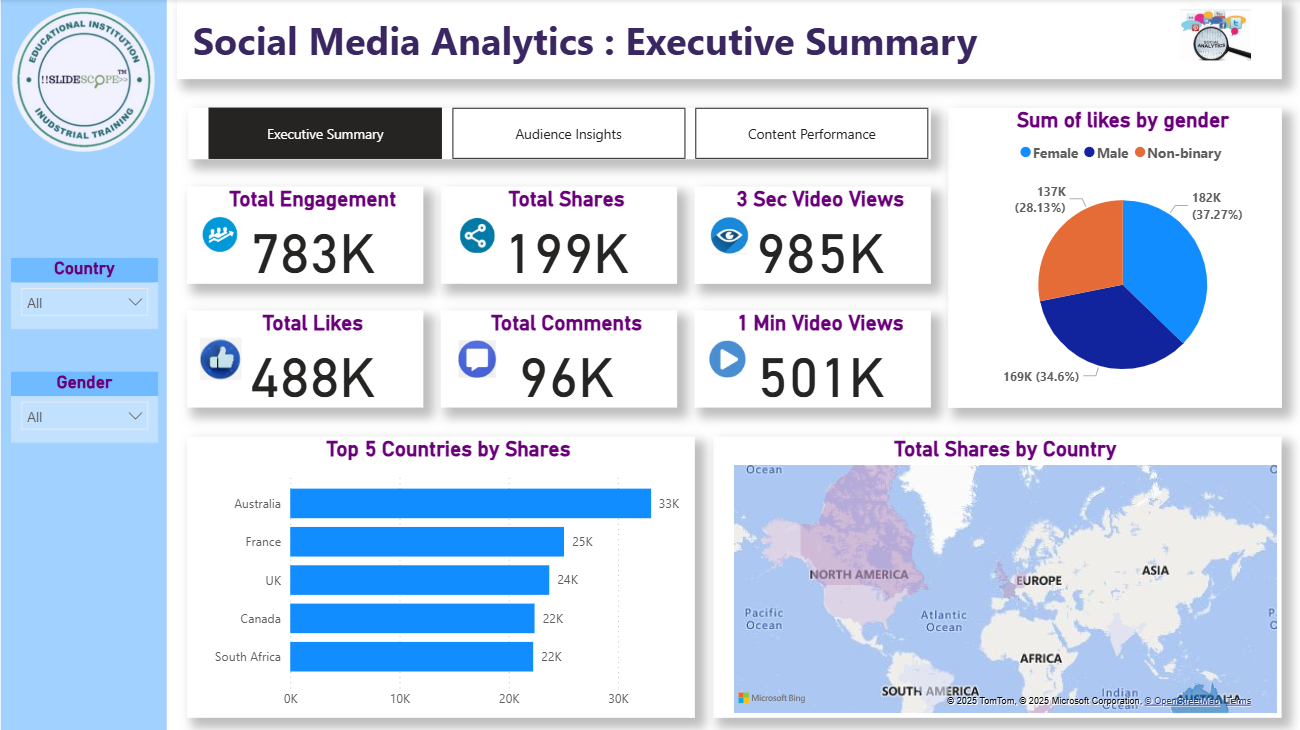

The dashboard page shown, as its layout file describes it:
{"tool":"powerbi","page":{"name":"Page 1","canvas":[1280,720],"ordinal":0},"visuals":[{"type":"shape","box":[8.6,0,162.6,720.2],"z":0},{"type":"textbox","box":[181,0,1099.3,64.8],"z":1000},{"type":"image","box":[1139.7,4.9,113.7,59.9],"z":2000},{"type":"image","box":[8.6,0,162.6,156.5],"z":3000},{"type":"card","title":"Total Likes","fields":{"Values":["Sum(social_media_analysis.likes)"]},"box":[181,92.9,205.4,89.3],"z":4000},{"type":"image","box":[181,108.8,59.9,52.6],"z":5000},{"type":"card","title":"Total Shares","fields":{"Values":["Sum(social_media_analysis.shares)"]},"box":[399.9,92.9,205.4,89.3],"z":6000},{"type":"image","box":[399.9,106.4,48.9,59.9],"z":7000},{"type":"card","title":"Total Comments","fields":{"Values":["Sum(social_media_analysis.comments)"]},"box":[620,92.9,205.4,89.3],"z":8000},{"type":"image","box":[620,113.7,57.5,50.1],"z":9000},{"type":"card","title":"1 Min Video Views","fields":{"Values":["Sum(social_media_analysis.1-minute-video-views)"]},"box":[1066.3,94.2,205.4,89.3],"z":10000},{"type":"card","title":"3 Sec Video Views","fields":{"Values":["Sum(social_media_analysis.3-second-video-views)"]},"box":[845,92.9,205.4,89.3],"z":11000},{"type":"image","box":[845,113.7,53.8,51.4],"z":12000},{"type":"image","box":[1066.3,113.7,51.4,52.6],"z":13000},{"type":"clusteredColumnChart","title":"Sum of Likes, Shares and Comments by Hobby","fields":{"Category":["social_media_analysis.hobby"],"Y":["Sum(social_media_analysis.comments)","Sum(social_media_analysis.likes)","Sum(social_media_analysis.shares)"]},"box":[181,200.5,424.3,225],"z":14000},{"type":"clusteredColumnChart","title":"Video Views by Profession","fields":{"Category":["social_media_analysis.profession"],"Y":["Sum(social_media_analysis.likes)","Sum(social_media_analysis.1-minute-video-views)","Sum(social_media_analysis.3-second-video-views)"]},"box":[620,201.8,401.1,223.8],"z":15000},{"type":"donutChart","fields":{"Category":["social_media_analysis.gender"],"Y":["Sum(social_media_analysis.likes)"]},"box":[1037,201.8,234.8,223.8],"z":16000},{"type":"clusteredColumnChart","title":"Distribution of Age of User","fields":{"Y":["CountNonNull(social_media_analysis.user_id)"],"Category":["social_media_analysis.age (bins)"],"Series":["social_media_analysis.gender"]},"box":[181,459.8,424.3,232.3],"z":17000},{"type":"slicer","title":"Gender","fields":{"Values":["social_media_analysis.gender"]},"box":[18.3,183.4,144.3,117.4],"z":18000},{"type":"slicer","title":"Hobby","fields":{"Values":["social_media_analysis.hobby"]},"box":[18.3,335.1,144.3,69.7],"z":19000},{"type":"slicer","title":"Profession","fields":{"Values":["social_media_analysis.profession"]},"box":[18.3,440.2,144.3,69.7],"z":20000},{"type":"filledMap","title":"Total Shares by Country","fields":{"Category":["social_media_analysis.country"]},"box":[620,459.8,651.8,232.3],"z":21000},{"type":"slicer","title":"Country","fields":{"Values":["social_media_analysis.country"]},"box":[18.3,541.7,144.3,69.7],"z":22000}]}

Visuals, with their boxes in screenshot pixels (x1, y1, x2, y2), scaled from the page's 1280x720 canvas onto the 1300x730 screenshot:
shape: (left=9, top=0, right=174, bottom=729)
textbox: (left=184, top=0, right=1299, bottom=66)
image: (left=1158, top=5, right=1273, bottom=66)
image: (left=9, top=0, right=174, bottom=159)
"Total Likes" card: (left=184, top=94, right=392, bottom=185)
image: (left=184, top=110, right=245, bottom=164)
"Total Shares" card: (left=406, top=94, right=615, bottom=185)
image: (left=406, top=108, right=456, bottom=169)
"Total Comments" card: (left=630, top=94, right=838, bottom=185)
image: (left=630, top=115, right=688, bottom=166)
"1 Min Video Views" card: (left=1083, top=96, right=1292, bottom=186)
"3 Sec Video Views" card: (left=858, top=94, right=1067, bottom=185)
image: (left=858, top=115, right=913, bottom=167)
image: (left=1083, top=115, right=1135, bottom=169)
"Sum of Likes, Shares and Comments by Hobby" clusteredColumnChart: (left=184, top=203, right=615, bottom=431)
"Video Views by Profession" clusteredColumnChart: (left=630, top=205, right=1037, bottom=432)
donutChart - social_media_analysis.gender x Sum(social_media_analysis.likes): (left=1053, top=205, right=1292, bottom=432)
"Distribution of Age of User" clusteredColumnChart: (left=184, top=466, right=615, bottom=702)
"Gender" slicer: (left=19, top=186, right=165, bottom=305)
"Hobby" slicer: (left=19, top=340, right=165, bottom=410)
"Profession" slicer: (left=19, top=446, right=165, bottom=517)
"Total Shares by Country" filledMap: (left=630, top=466, right=1292, bottom=702)
"Country" slicer: (left=19, top=549, right=165, bottom=620)
